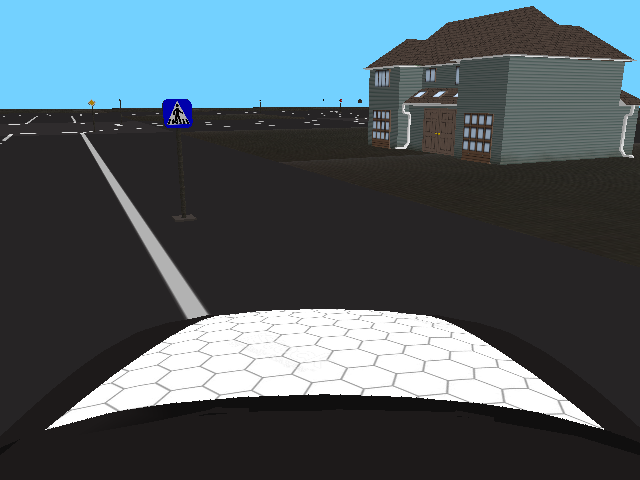pedestrian_cross: (161, 98, 192, 130)
